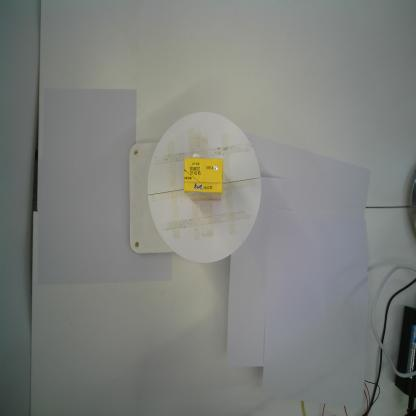Drink: (180, 156, 226, 204)
